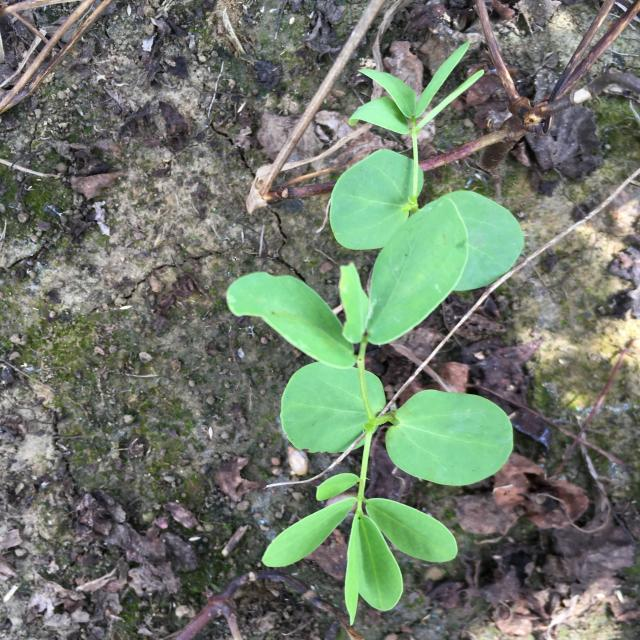Sicklepod: (226, 40, 524, 626)
